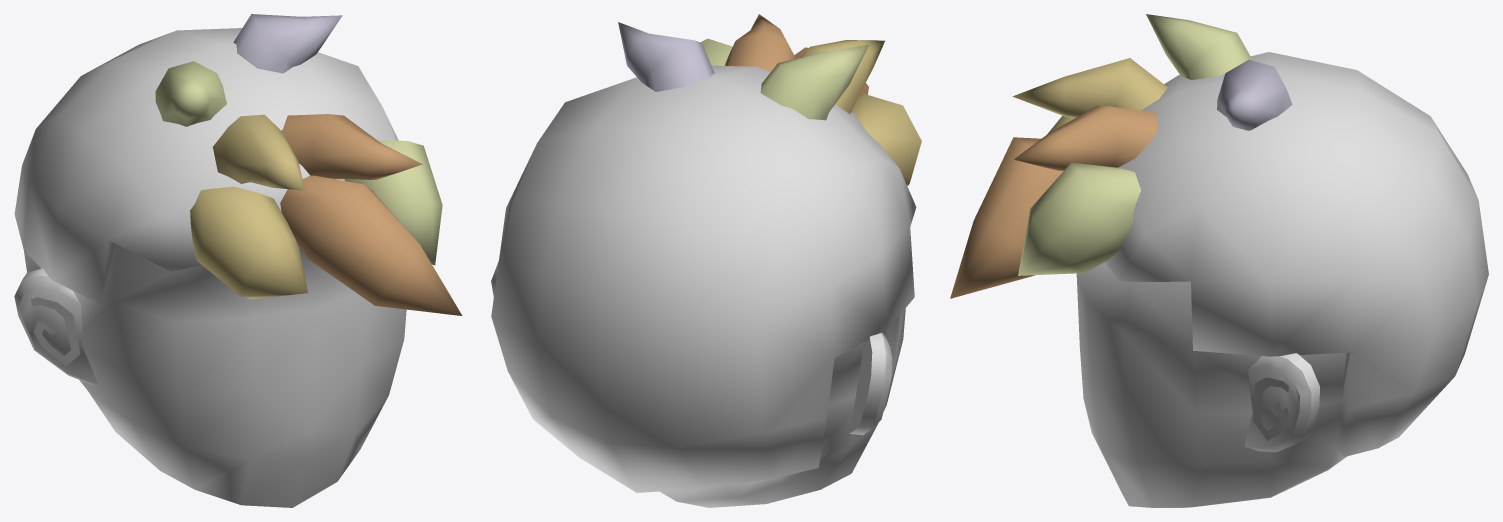
The model's file is Hair3.glb.
3 views of the same model, side by side, from view 1: azimuth 30°, elevation 25°; view 2: azimuth 150°, elevation 25°; view 3: azimuth 270°, elevation 25° (orthographic). The views are drawn at different scales.
Visible parts, largest first — view 1: Head; view 2: Head; view 3: Head.
Boxes of the visible parts, box(x1,y1,x2,y2) form: Head: box(14, 14, 462, 507); Head: box(491, 14, 921, 507); Head: box(950, 14, 1488, 507).
Size of the model in its own units: 0.6019 by 0.67 by 0.7303.
